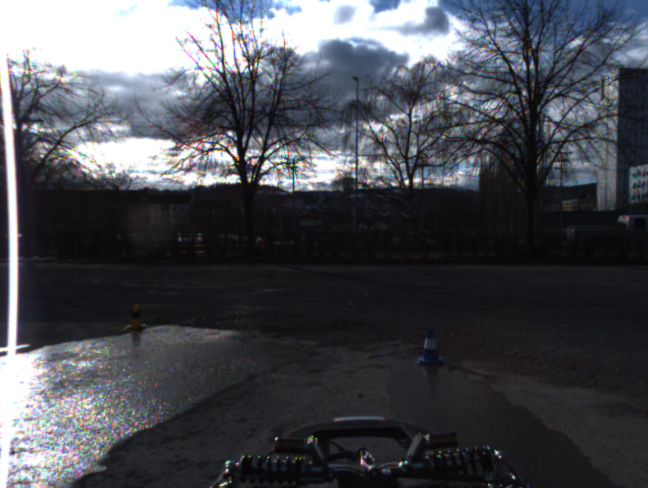cone-small-blue: (414, 328, 447, 366)
cone-small-yellow: (123, 303, 147, 331)
